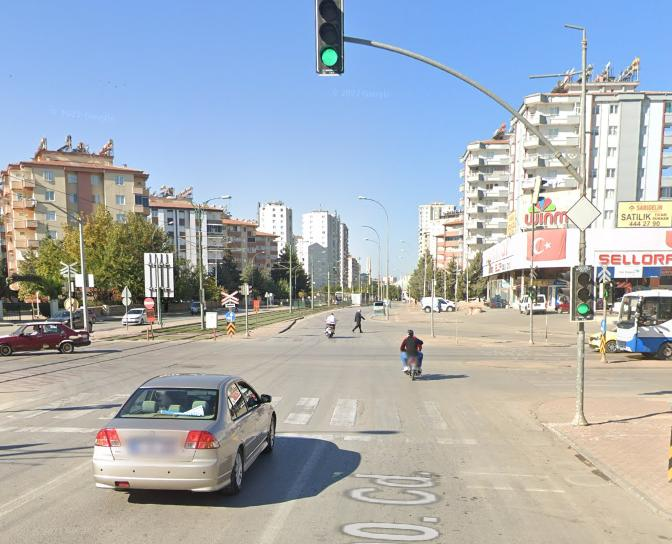greenlight: (318, 0, 341, 75), (573, 266, 594, 318)
